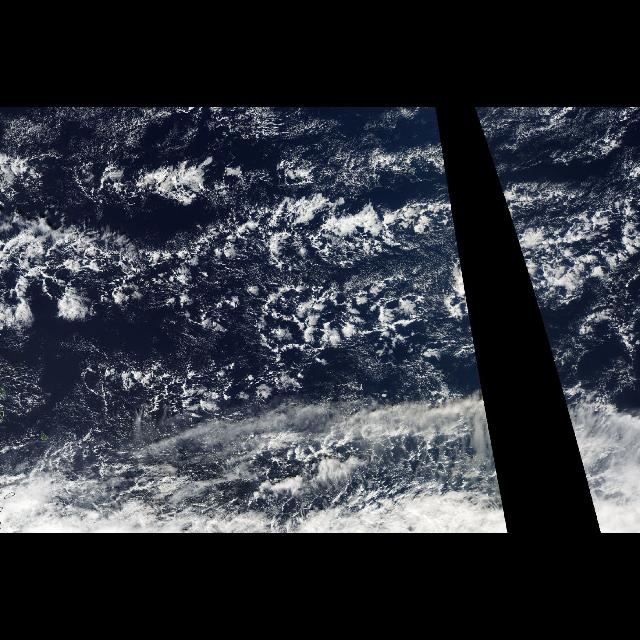Fish: (2, 133, 484, 395), (482, 132, 632, 342)
Sugar: (76, 110, 414, 158)
